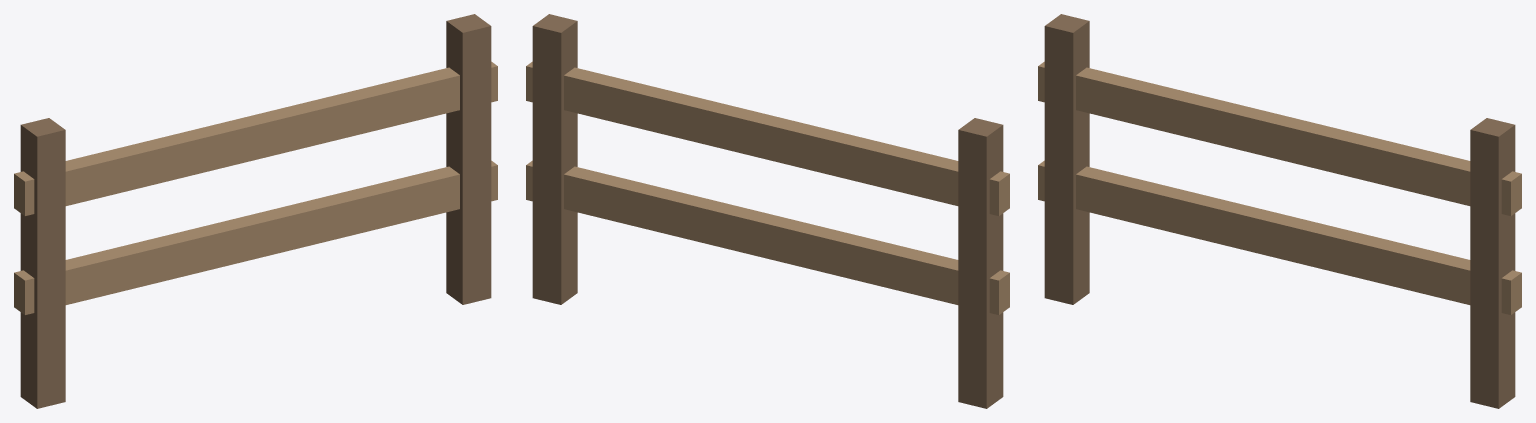
File: fence_wood.glb
The picture shows the model from 3 angles, left to right: view 1: azimuth 30°, elevation 25°; view 2: azimuth 150°, elevation 25°; view 3: azimuth 330°, elevation 25°; orthographic projection.
Parts seen in each view (by area): view 1: fence_wood_03, fence_wood_02, fence_wood_00, fence_wood_01; view 2: fence_wood_03, fence_wood_02, fence_wood_00, fence_wood_01; view 3: fence_wood_03, fence_wood_02, fence_wood_01, fence_wood_00.
Boxes of the visible parts, box(x1,y1,x2,y2) form: fence_wood_03: box(14, 160, 497, 314); fence_wood_02: box(14, 61, 497, 215); fence_wood_00: box(20, 118, 65, 408); fence_wood_01: box(446, 14, 491, 304); fence_wood_03: box(526, 160, 1009, 314); fence_wood_02: box(526, 61, 1009, 215); fence_wood_00: box(958, 118, 1003, 408); fence_wood_01: box(532, 14, 577, 304); fence_wood_03: box(1038, 160, 1521, 314); fence_wood_02: box(1038, 61, 1521, 215); fence_wood_01: box(1470, 118, 1515, 408); fence_wood_00: box(1044, 14, 1089, 304).
Bounding box in the file's own units: 2 × 1.1 × 0.12.
